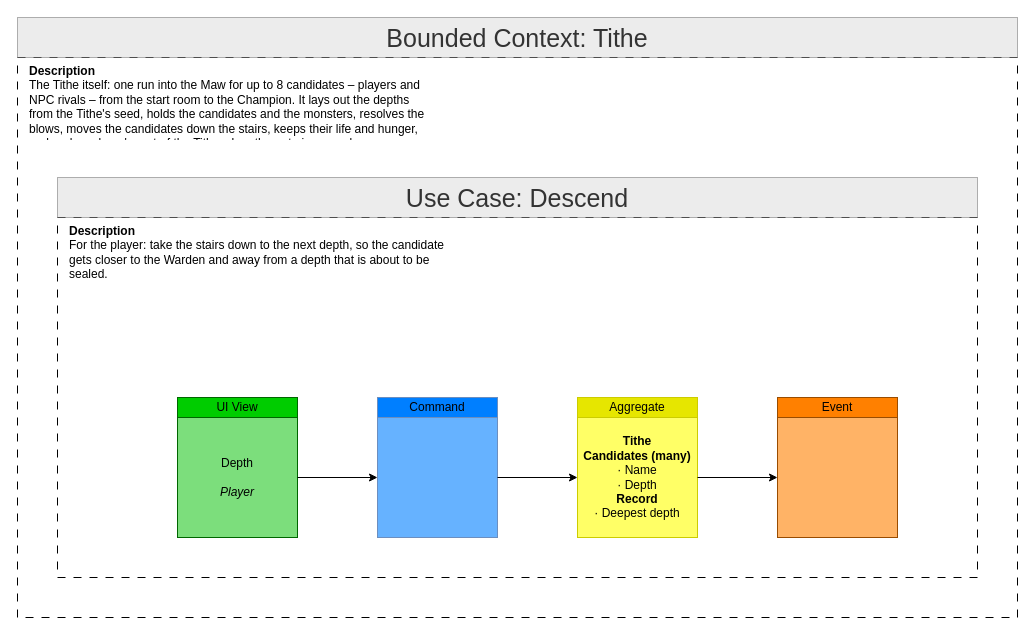
This 1035x635 diagram has some shape labels left out. The shapes that lost their labels are listed below. From the top down, each one's box as (x1, y1, x2, y2) in pixels, then its label:
(376, 416, 498, 538): Descend
(776, 416, 898, 538): Depth reached
